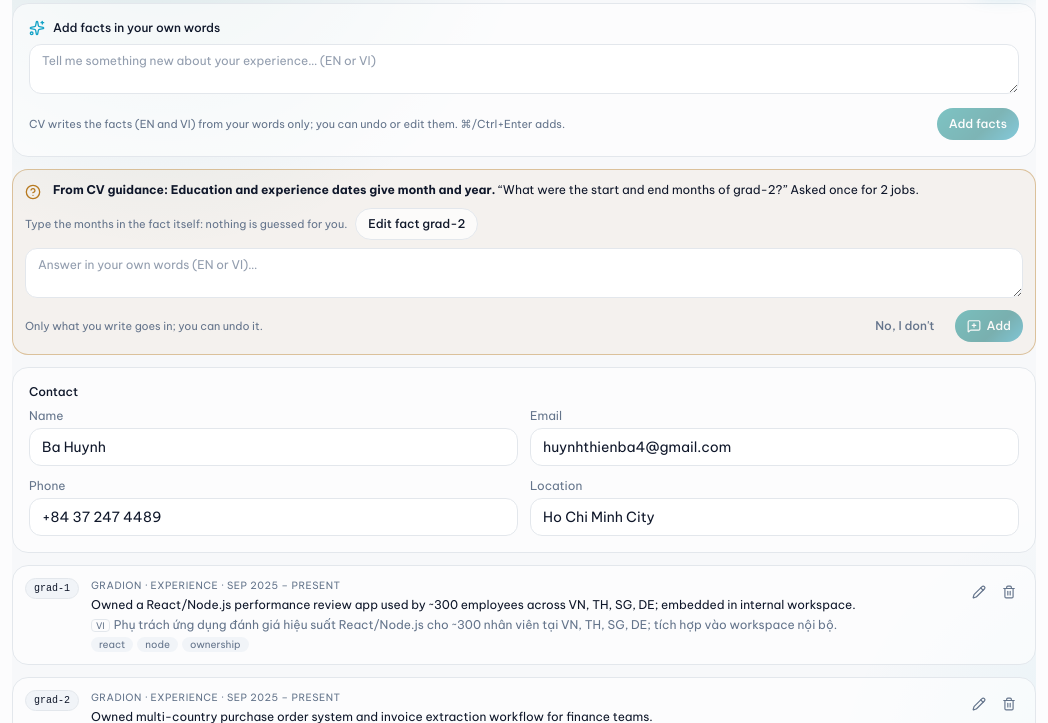
Test: MasterCvScreen (UC-20) › CV guidance (§5.8): a months request is labelled with its rule, asked once for two jobs, and opens the fact's own editor
Expected: the element with test id "guidance-request" shows "From CV guidance: Education and experience dates give month and year. “What were the start and end months of grad-2?” Asked once for 2 jobs.", [53,182,1023,198]
Click the button with test id "edit-fact".
click(417, 224)  # box [355,208,478,240]
(page scrolled)
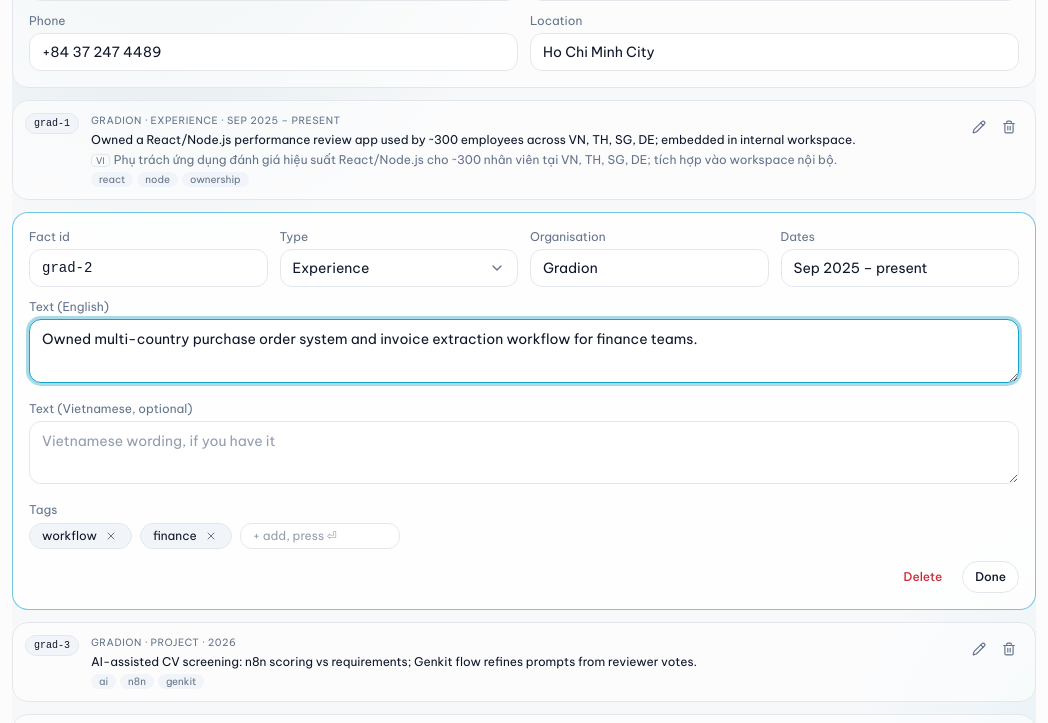
Expected: the element with test id "fact-editor" is shown, [12,212,1036,610]
Expected: the field labelled "Fact id" holds "grad-2", [29,249,268,287]
